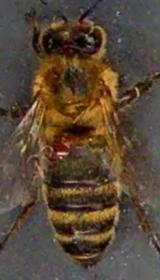varroa_mite: (42, 140, 77, 165)
